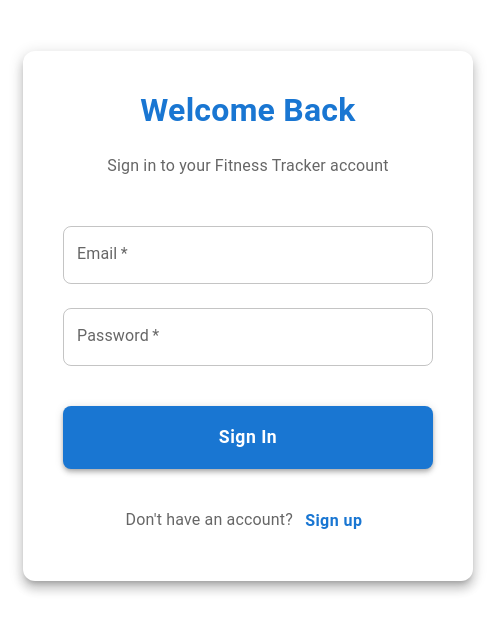
Scenario: Login Component › displays error message on login failure
In the field labelled "Email *": (248, 255) [63,226,433,284], type "test@example.com"
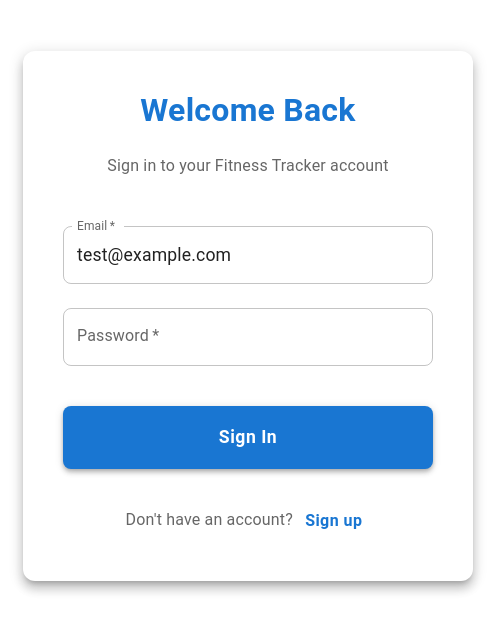
In the password field labelled "Password *": (248, 337) [63,308,433,366], type "wrongpassword"
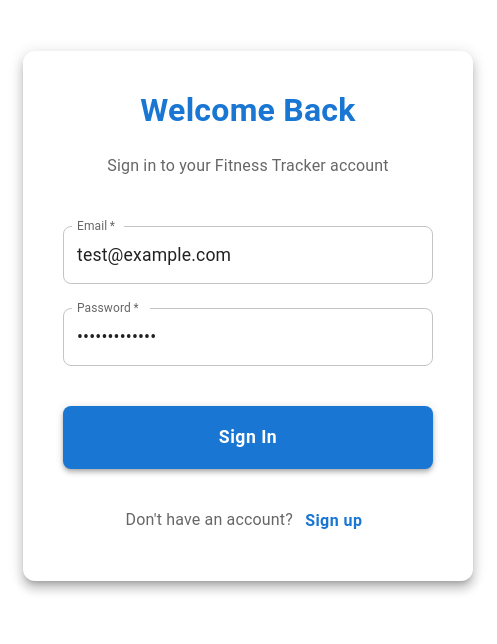
Click the button "Sign In": (248, 438) [63,406,433,469]
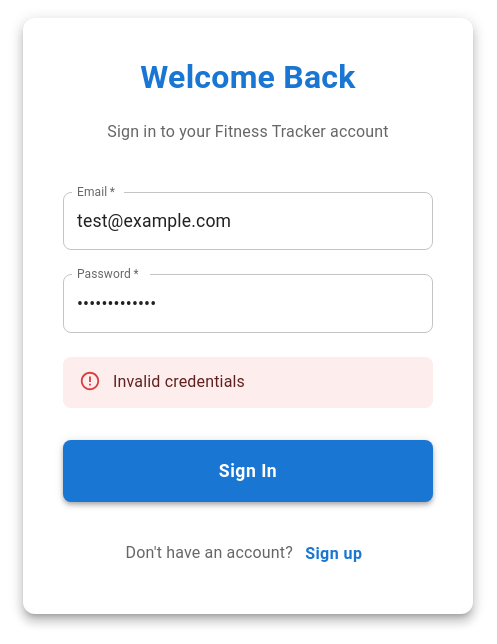
Expected: the text "Invalid credentials" is shown, [113,372,245,391]
